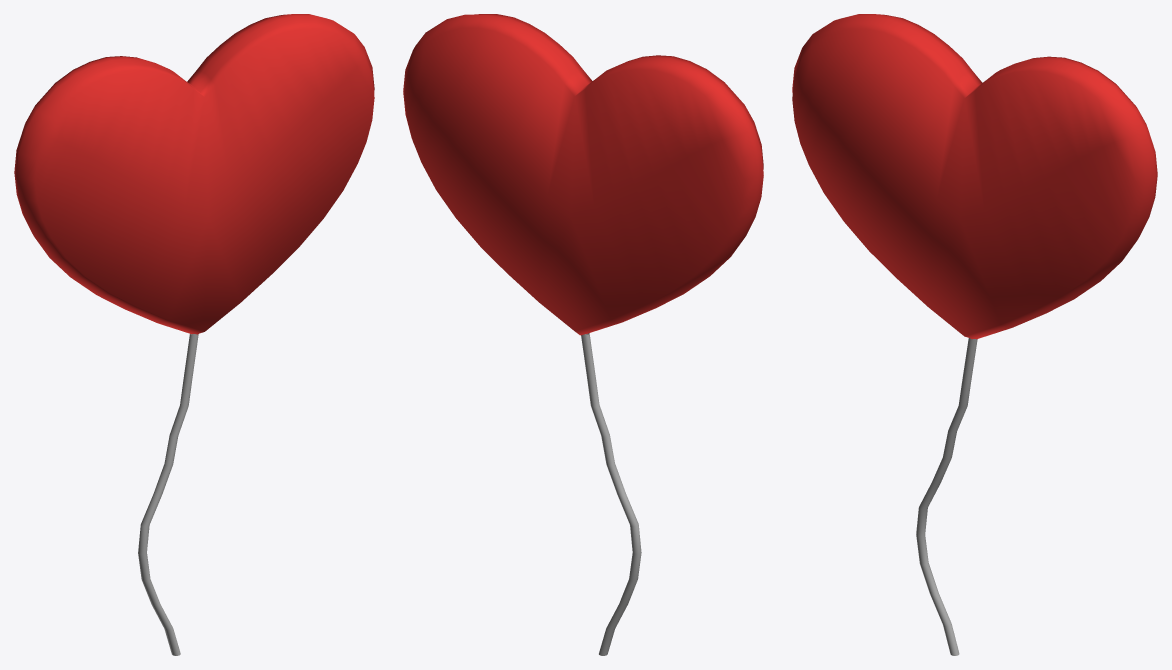
Rendered from Heart_Balloon_01.fbx.
3 views of the same model, side by side, from view 1: azimuth 30°, elevation 25°; view 2: azimuth 150°, elevation 25°; view 3: azimuth 330°, elevation 25° (orthographic).
Parts seen in each view (by area): view 1: Heart_Balloon_01; view 2: Heart_Balloon_01; view 3: Heart_Balloon_01.
Part boxes in pixels (x1=…): Heart_Balloon_01: x1=14, y1=14, x2=374, y2=655; Heart_Balloon_01: x1=403, y1=14, x2=763, y2=655; Heart_Balloon_01: x1=792, y1=14, x2=1157, y2=655.
Size of the model in its own units: 229 by 372 by 29.5.
